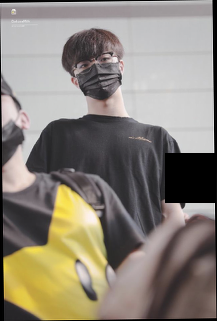with_mask: (74, 49, 123, 101)
